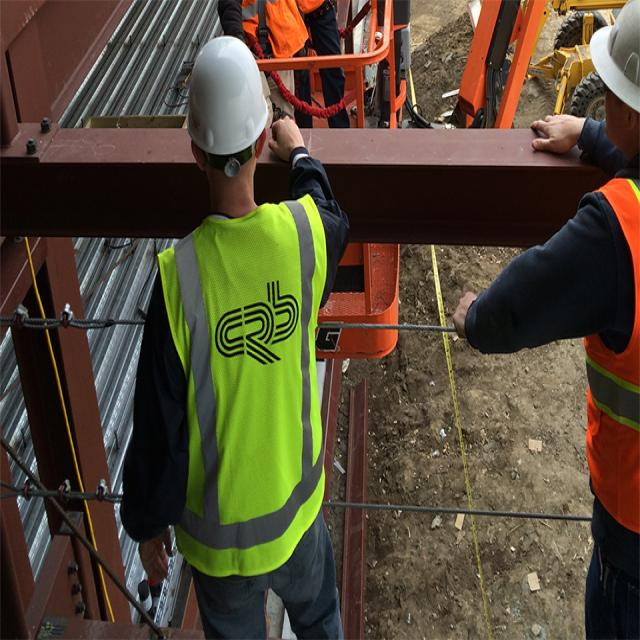Reflective-Jacket: (158, 197, 327, 578), (582, 173, 639, 539)
Safety-Helmet: (182, 31, 270, 160), (589, 0, 640, 127)
